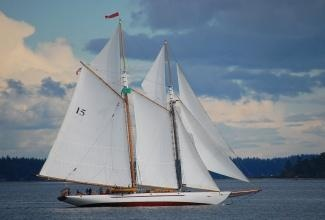fanchuan: (31, 6, 267, 206)
